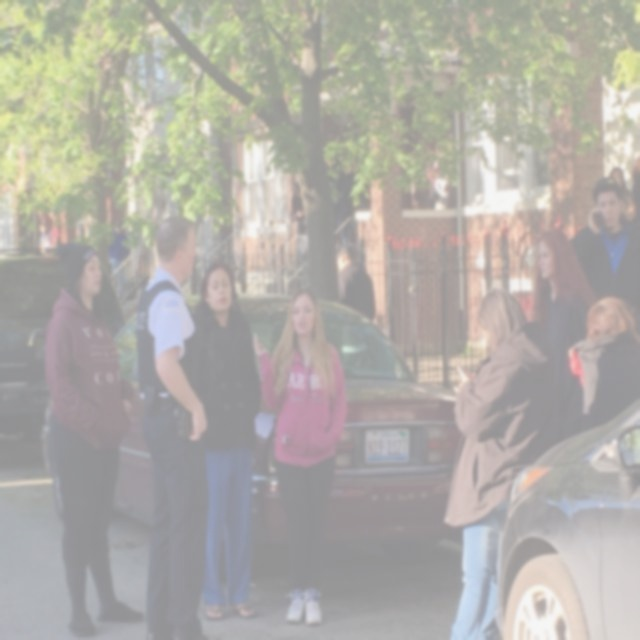pessoa: (34, 233, 148, 640), (442, 288, 554, 640), (134, 215, 223, 640), (249, 282, 349, 630), (194, 260, 264, 620), (532, 226, 599, 444), (560, 296, 640, 442), (565, 174, 639, 315), (336, 244, 376, 370), (324, 150, 356, 258), (105, 218, 134, 302), (290, 180, 310, 288), (608, 166, 637, 222), (124, 243, 148, 301), (414, 172, 450, 210), (630, 152, 639, 235), (342, 156, 369, 177), (356, 182, 372, 214), (401, 176, 414, 213), (432, 140, 447, 172), (48, 213, 60, 249), (38, 223, 52, 253), (121, 224, 128, 234)
